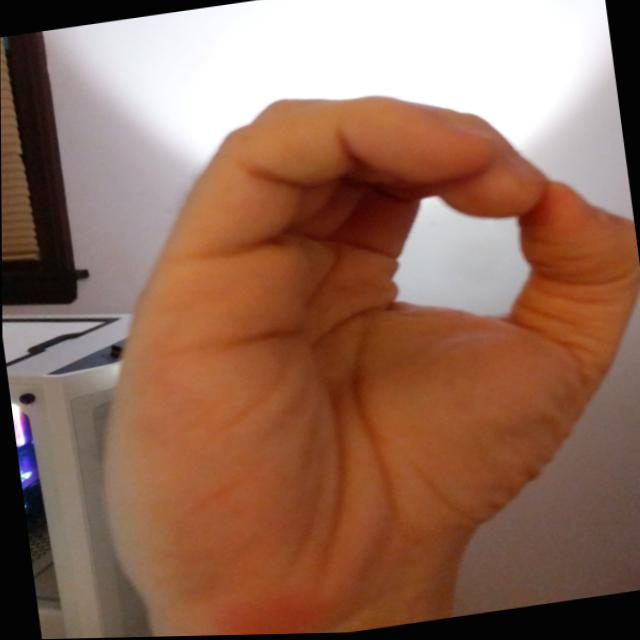O: (40, 45, 639, 639)
